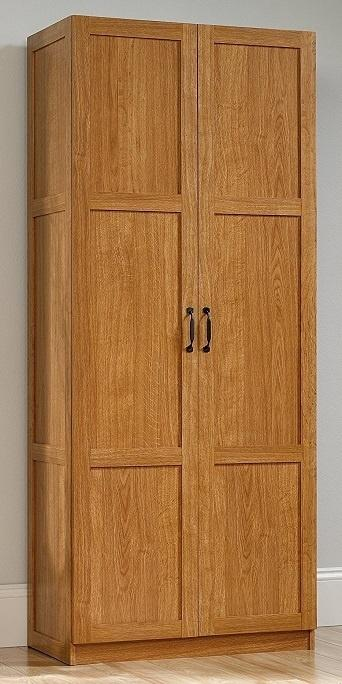cabinet_door: (74, 31, 200, 646), (199, 37, 301, 644)
handle: (185, 304, 196, 359), (201, 305, 212, 359)
